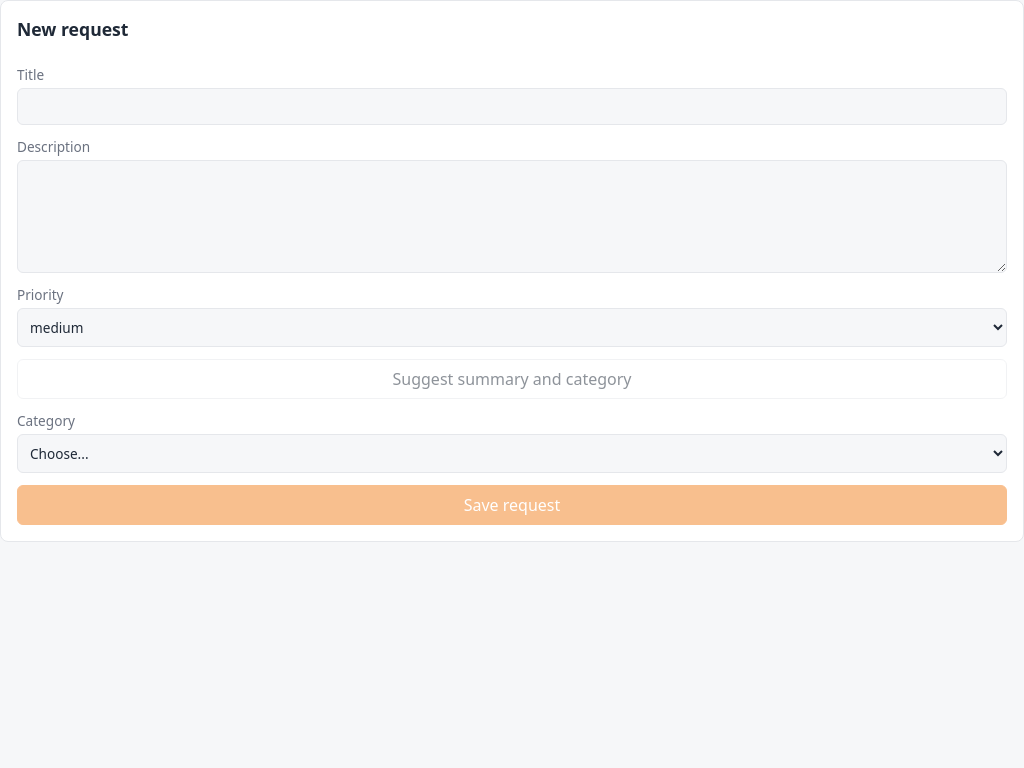
Test case: NewRequestForm › shows the AI suggestion for review without saving anything
Step 1. Type "VPN broken" into the field labelled "Title" → (512, 106), box [17,88,1007,125]
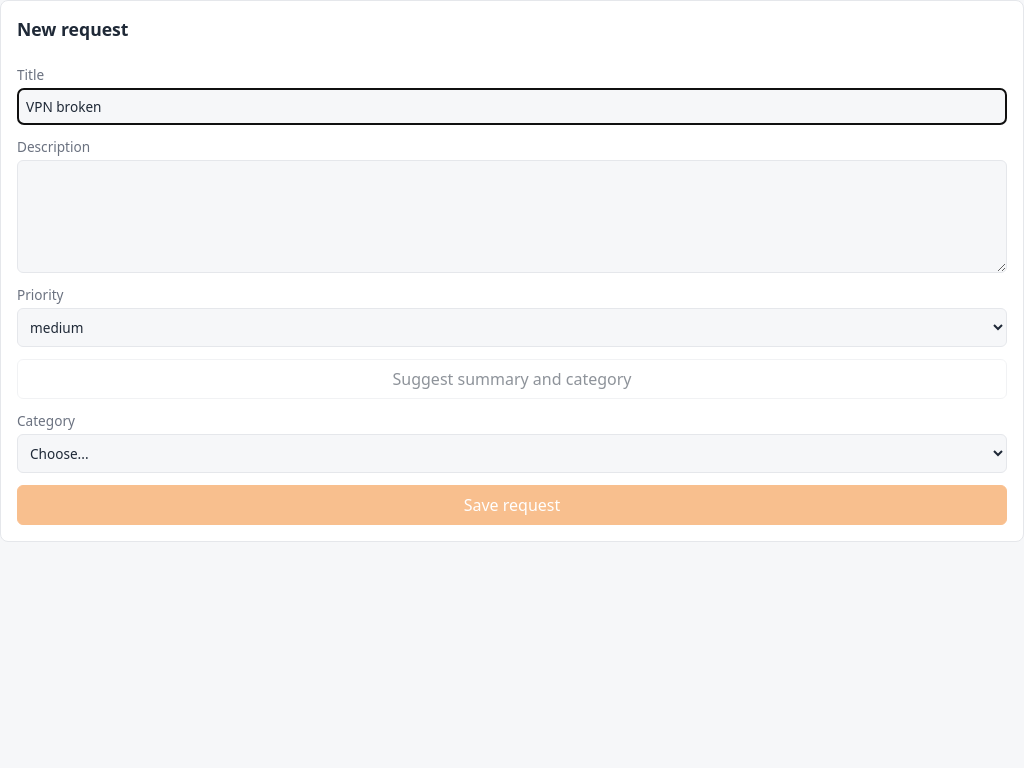
Step 2. Type "Certificate expired this morning." into the text box labelled "Description" → (512, 216), box [17,160,1007,273]
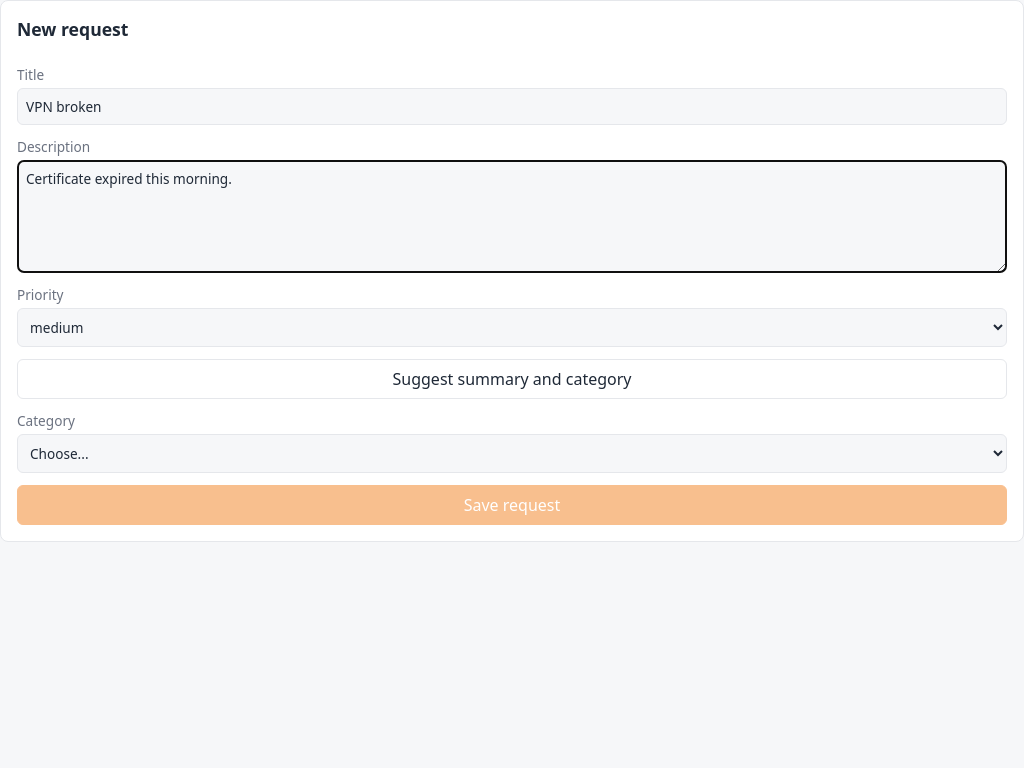
Step 3. Click the button "Suggest summary and category" → click(512, 379), box [17,359,1007,399]
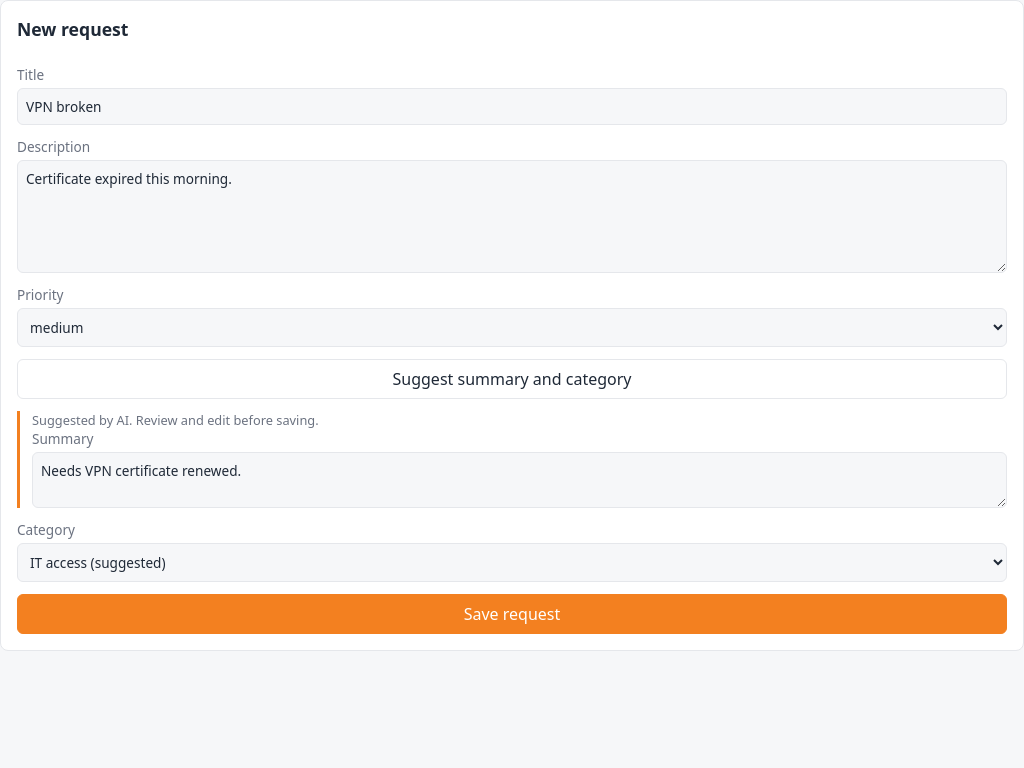
Expected: the text box showing "Needs VPN certificate renewed." is shown, [32,452,1007,508]
Expected: the dropdown labelled "Category" shows "IT access (suggested)", [17,543,1007,582]
